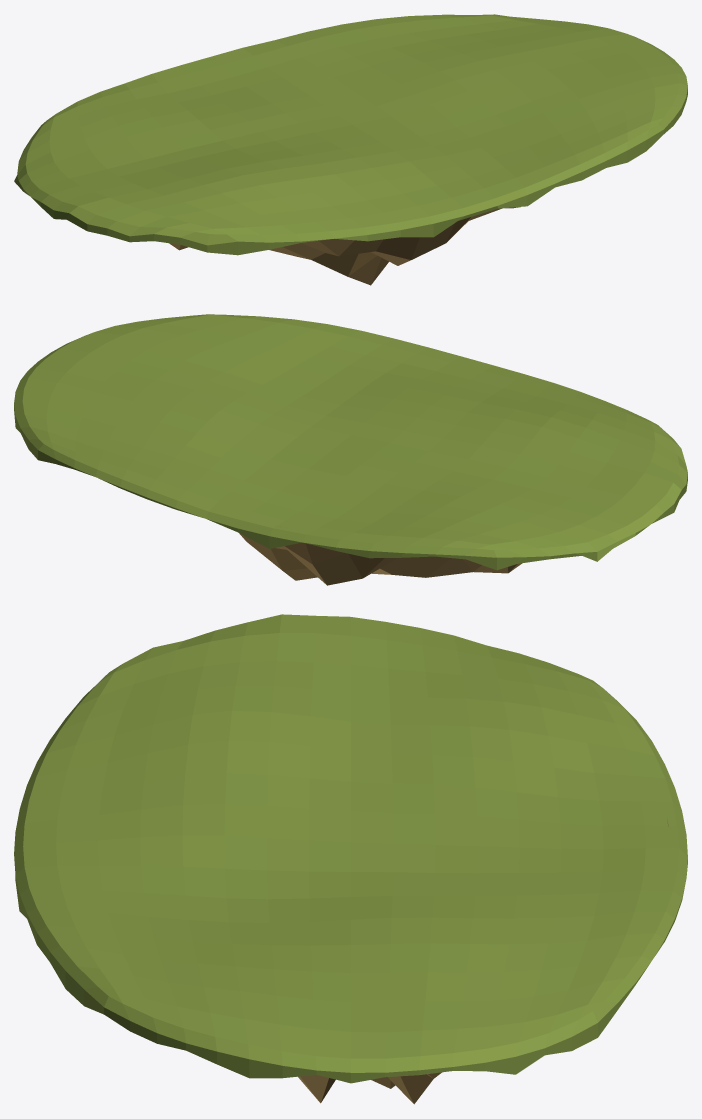
Rendered from platforme_moyen1.fbx.
3 renders of one model, top to bottom at view 1: azimuth 30°, elevation 25°; view 2: azimuth 150°, elevation 25°; view 3: azimuth 270°, elevation 25°, orthographic. The views are drawn at different scales.
Visible parts, largest first — view 1: Plane.004; view 2: Plane.004; view 3: Plane.004.
Boxes of the visible parts, x1,y1,x2,y2 form: Plane.004: (14,14,687,285); Plane.004: (14,314,687,585); Plane.004: (14,614,687,1104).
Bounding box in the file's own units: 1052 × 270 × 663.
